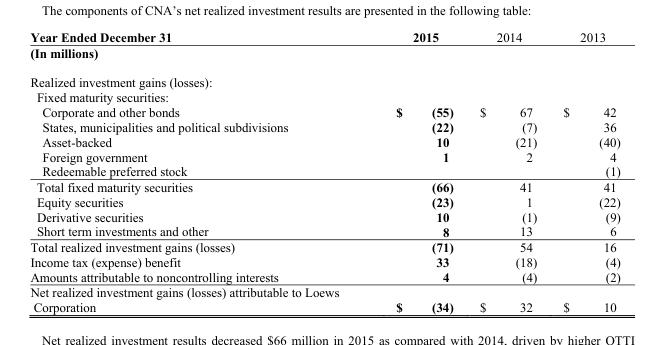table: (29, 29, 619, 313)
table column: (29, 29, 366, 313), (366, 29, 465, 313), (465, 29, 549, 313), (549, 29, 619, 313)
table column header: (29, 29, 619, 44)
table projected row header: (29, 44, 619, 67), (29, 67, 619, 89), (29, 89, 619, 104)
table row: (29, 284, 619, 313), (29, 44, 619, 67), (29, 67, 619, 89), (29, 178, 619, 194), (29, 238, 619, 254), (29, 268, 619, 284), (29, 29, 619, 44), (29, 89, 619, 104), (29, 104, 619, 119), (29, 133, 619, 148), (29, 148, 619, 163), (29, 163, 619, 178), (29, 208, 619, 223), (29, 223, 619, 238), (29, 119, 619, 133), (29, 194, 619, 208), (29, 254, 619, 268)
